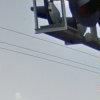Traffic light: (29, 0, 100, 51)
